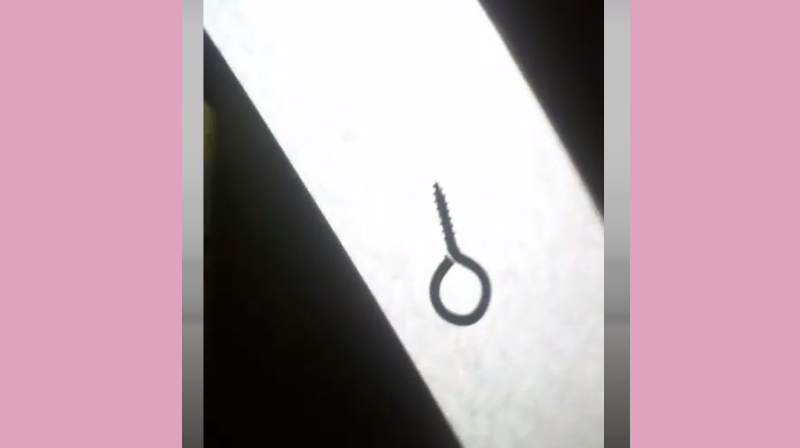O001: (425, 176, 493, 327)
